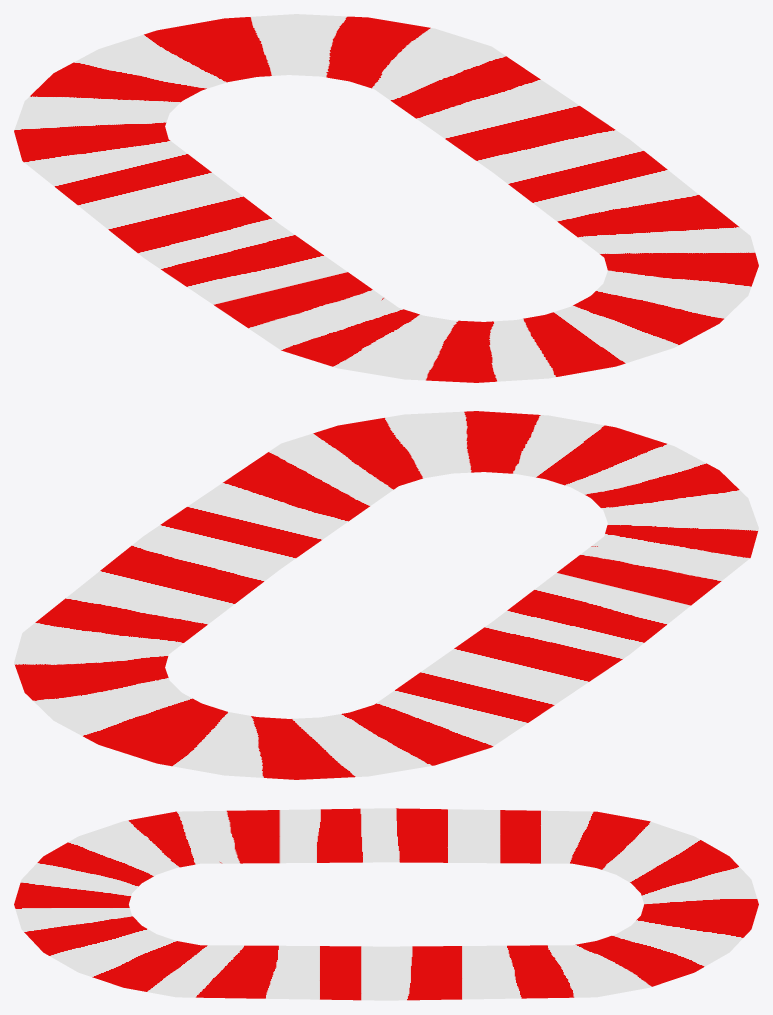
Rendered from RedWhiteTile.obj.
3 views of the same model, one above another, from view 1: azimuth 30°, elevation 25°; view 2: azimuth 150°, elevation 25°; view 3: azimuth 270°, elevation 25° (orthographic). The views are drawn at different scales.
Bounding box in the file's own units: 65.23 × 0 × 107.
